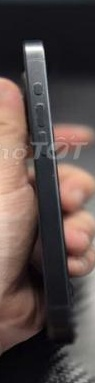scratch: (30, 95, 58, 161)
